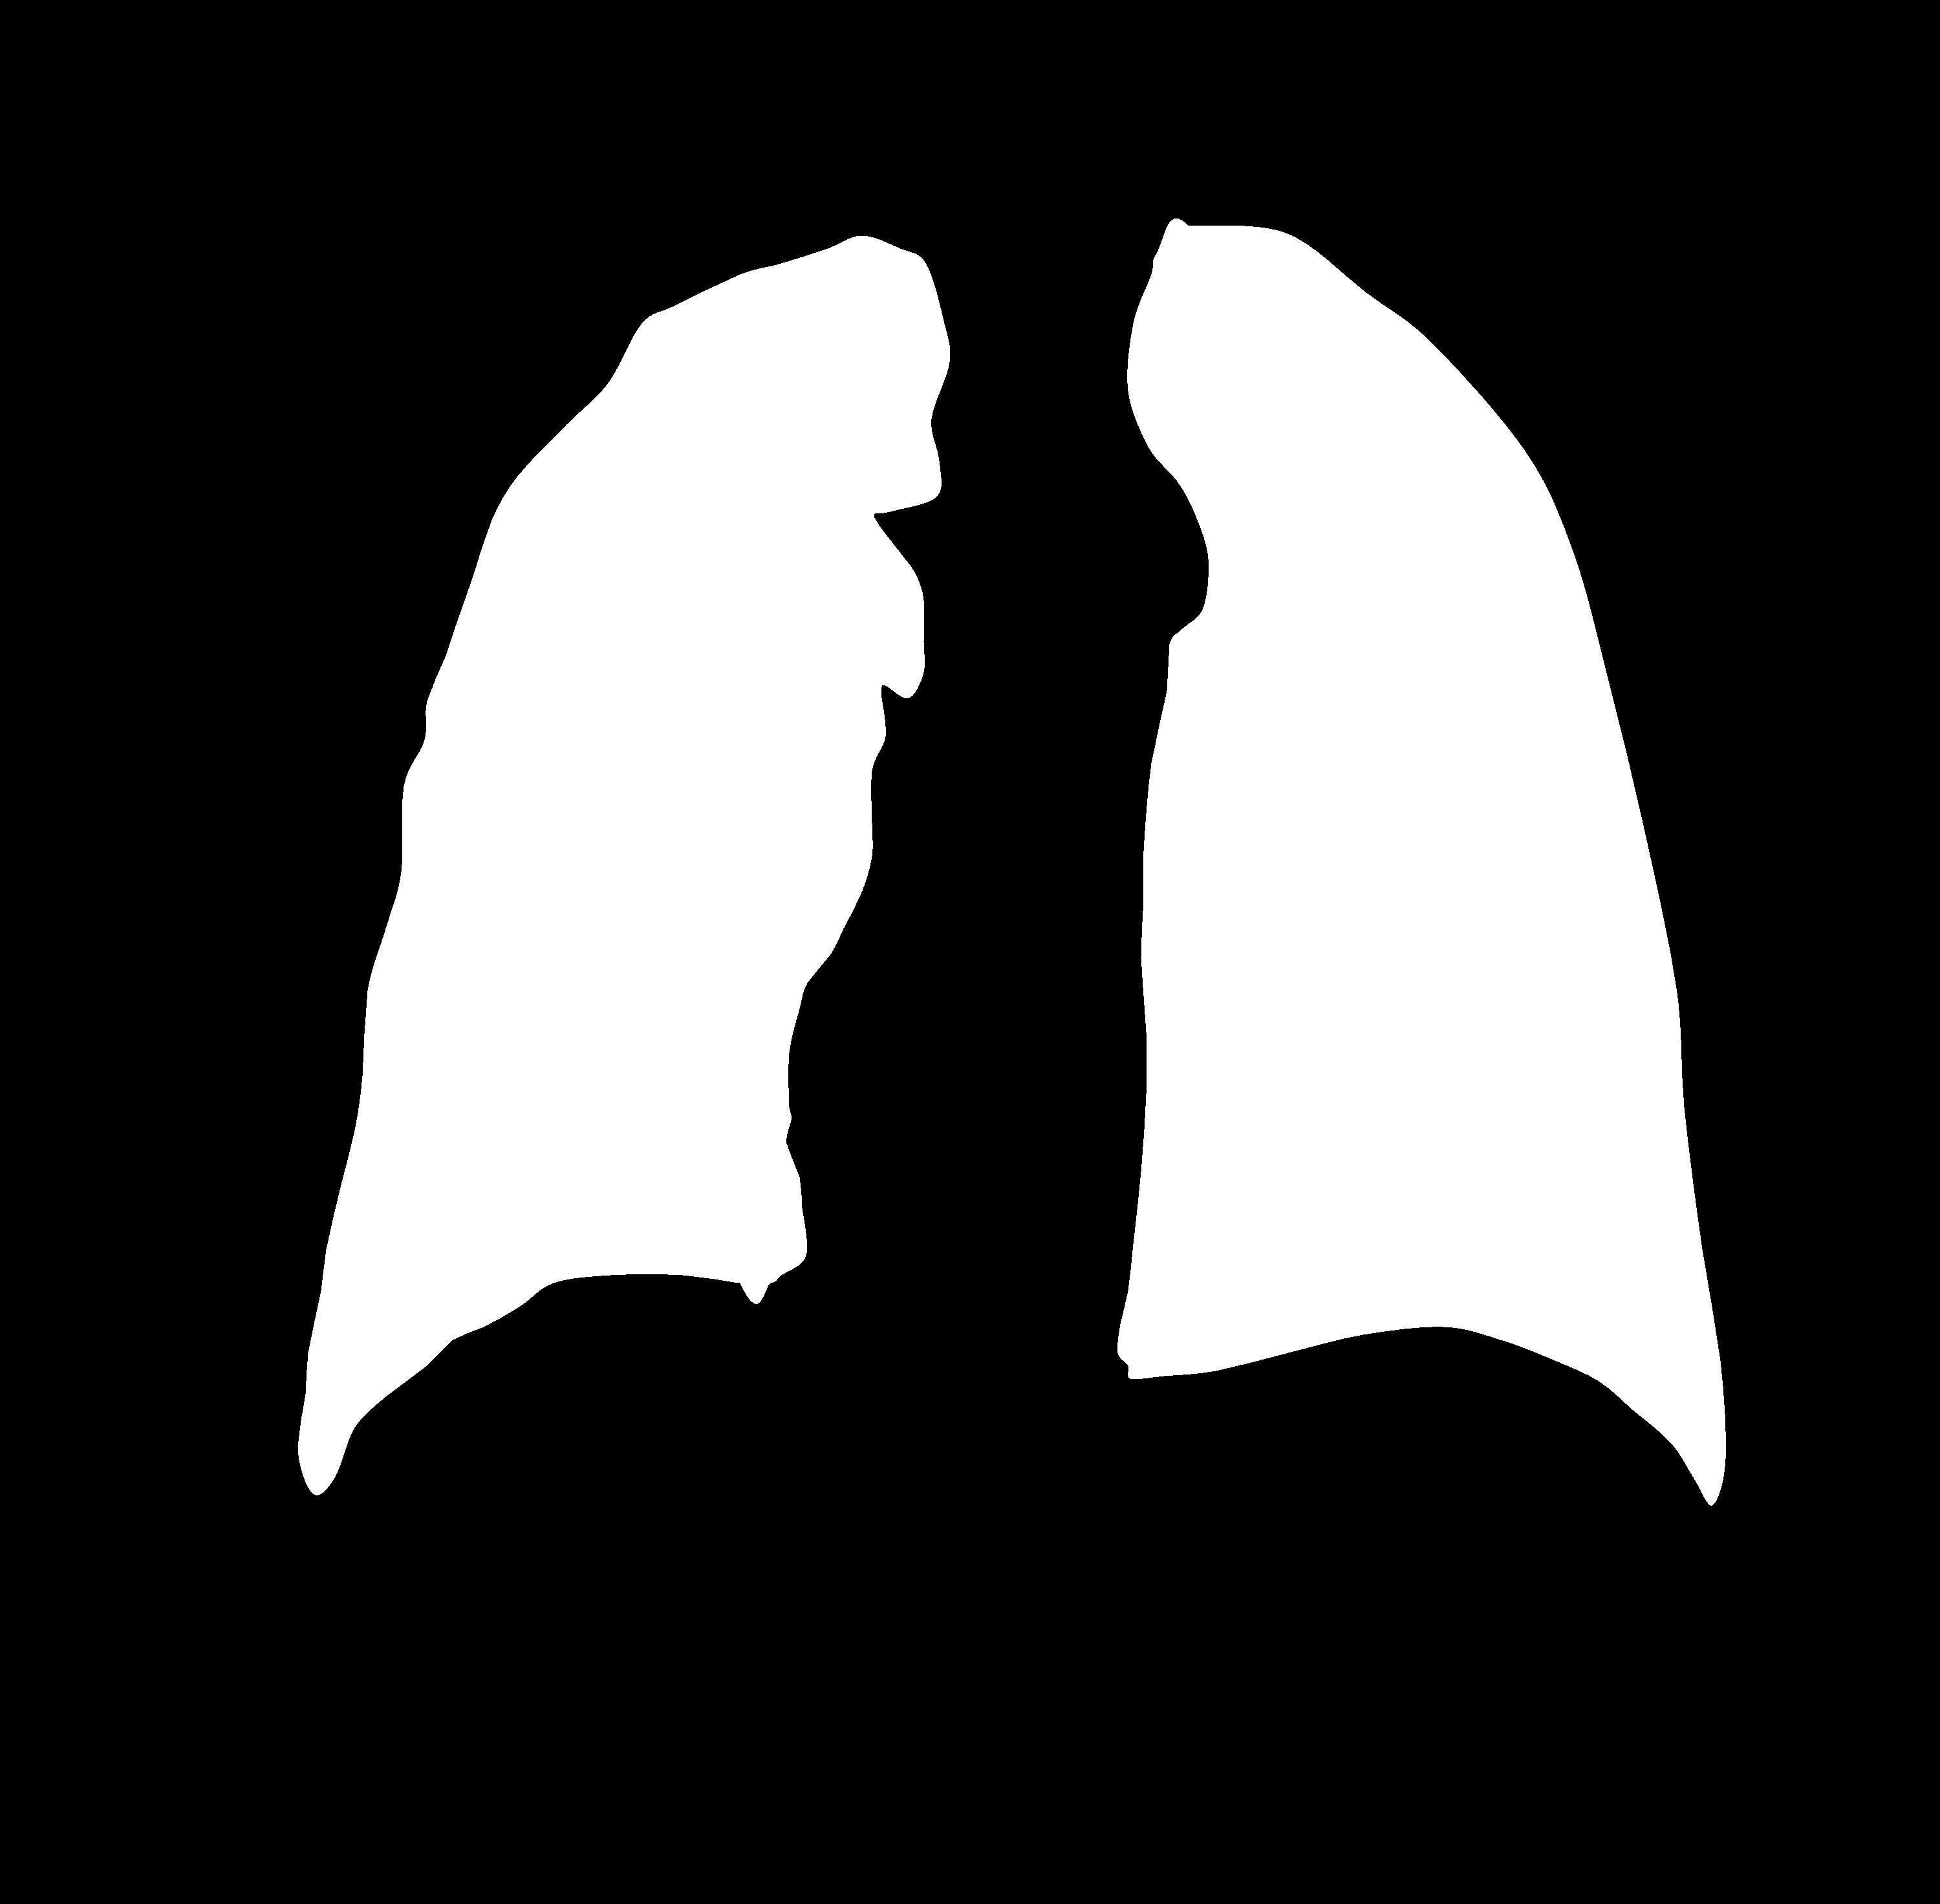heart: (780, 894, 1408, 1388)
left_lung: (298, 235, 949, 1494)
right_lung: (1118, 218, 1725, 1506)
